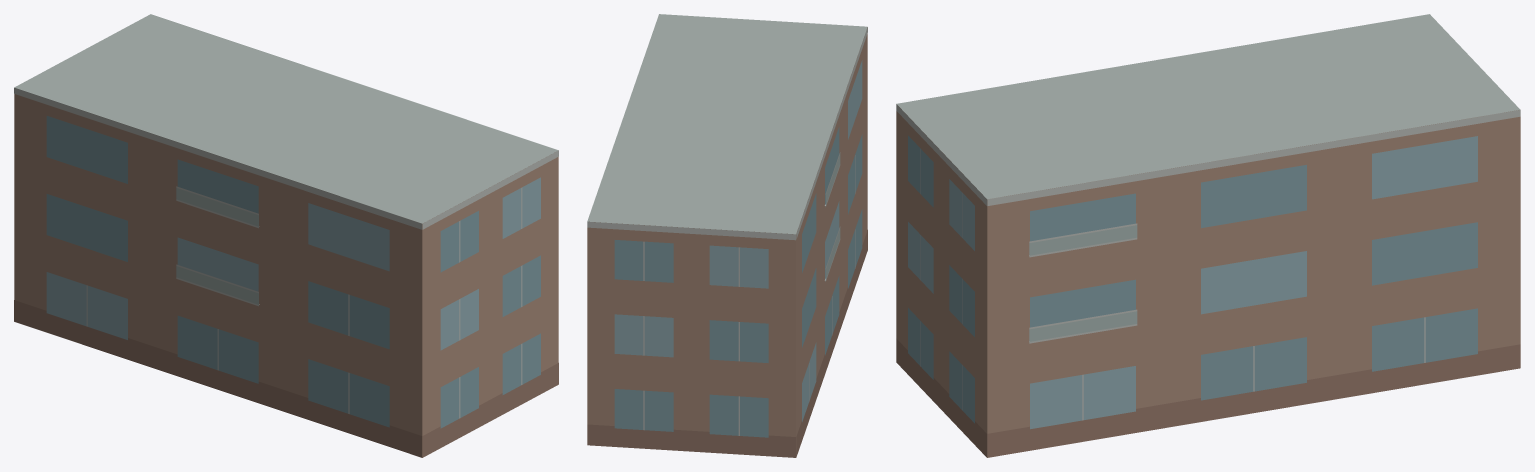
File: survey-upis-32698475.glb
3 renders of one model, left to right at view 1: azimuth 30°, elevation 25°; view 2: azimuth 150°, elevation 25°; view 3: azimuth 270°, elevation 25°, orthographic. The views are drawn at different scales.
Parts seen in each view (by area): view 1: survey-upis-32698475.tmp; view 2: survey-upis-32698475.tmp; view 3: survey-upis-32698475.tmp.
Boxes of the visible parts, x1=… form: survey-upis-32698475.tmp: x1=14, y1=14, x2=558, y2=457; survey-upis-32698475.tmp: x1=587, y1=14, x2=867, y2=457; survey-upis-32698475.tmp: x1=896, y1=14, x2=1520, y2=457.
Bounding box in the file's own units: 14.08 × 9.15 × 20.03.
